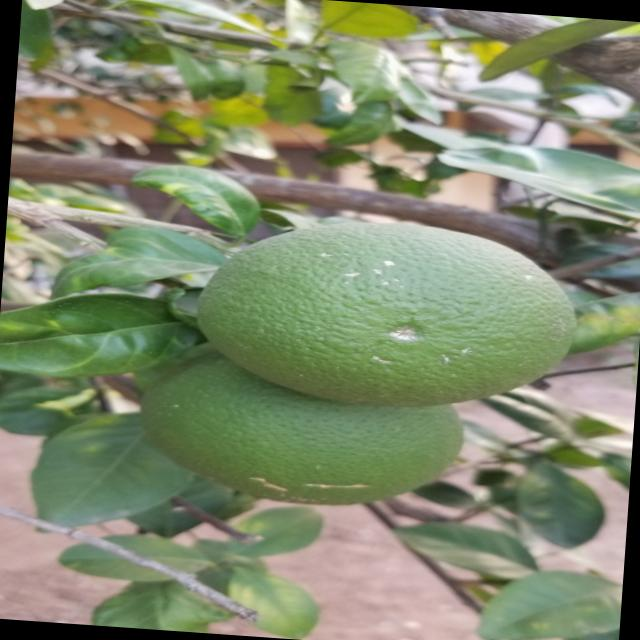Unripe: (184, 204, 585, 418), (141, 352, 470, 515)
